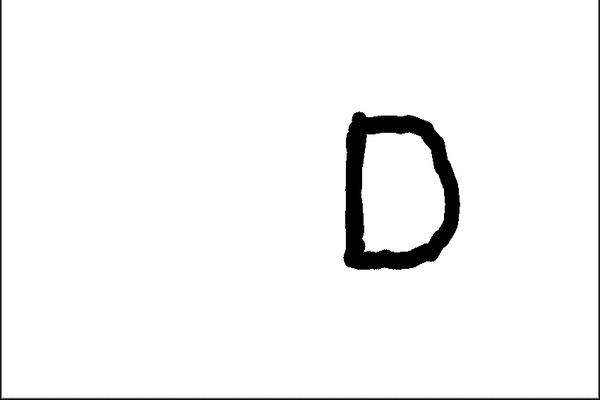D: (336, 106, 466, 277)
